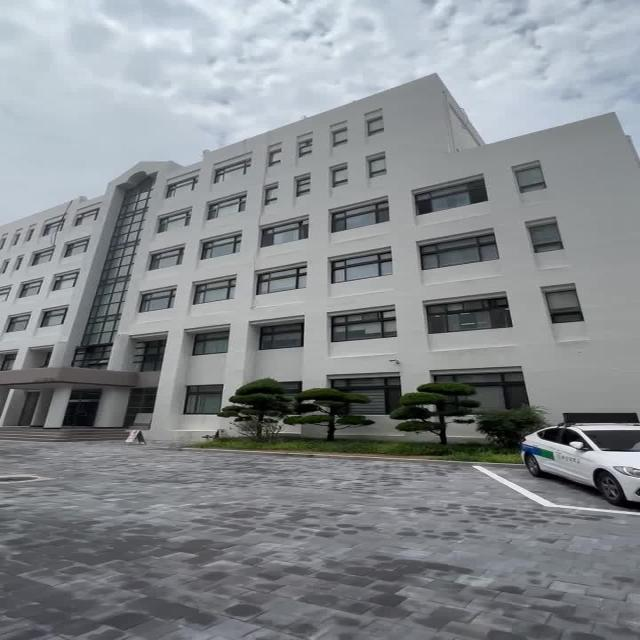building: (29, 90, 631, 363)
